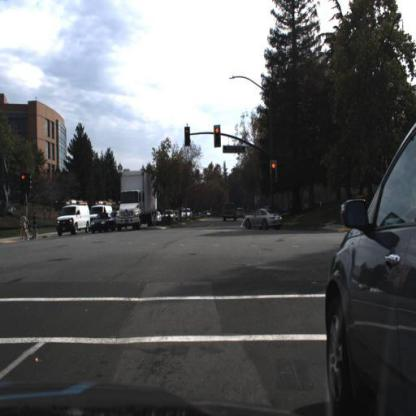biker: (17, 212, 31, 243), (20, 213, 28, 240), (32, 210, 37, 239)
car: (325, 113, 416, 415), (325, 115, 416, 415), (54, 204, 91, 235), (244, 206, 284, 234), (90, 203, 116, 228), (91, 212, 116, 233), (161, 209, 175, 224), (189, 206, 201, 223), (181, 208, 193, 221)
pedestrian: (30, 210, 42, 243), (29, 208, 40, 242), (114, 199, 125, 230)
trafficLight-Red: (212, 123, 222, 150), (269, 158, 278, 186)
trafficLight-RedLeft: (18, 172, 27, 196), (184, 124, 192, 148)
truck: (116, 171, 158, 232), (57, 201, 91, 236), (88, 202, 111, 226)
